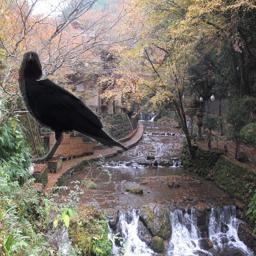Crow: (16, 50, 129, 163)
